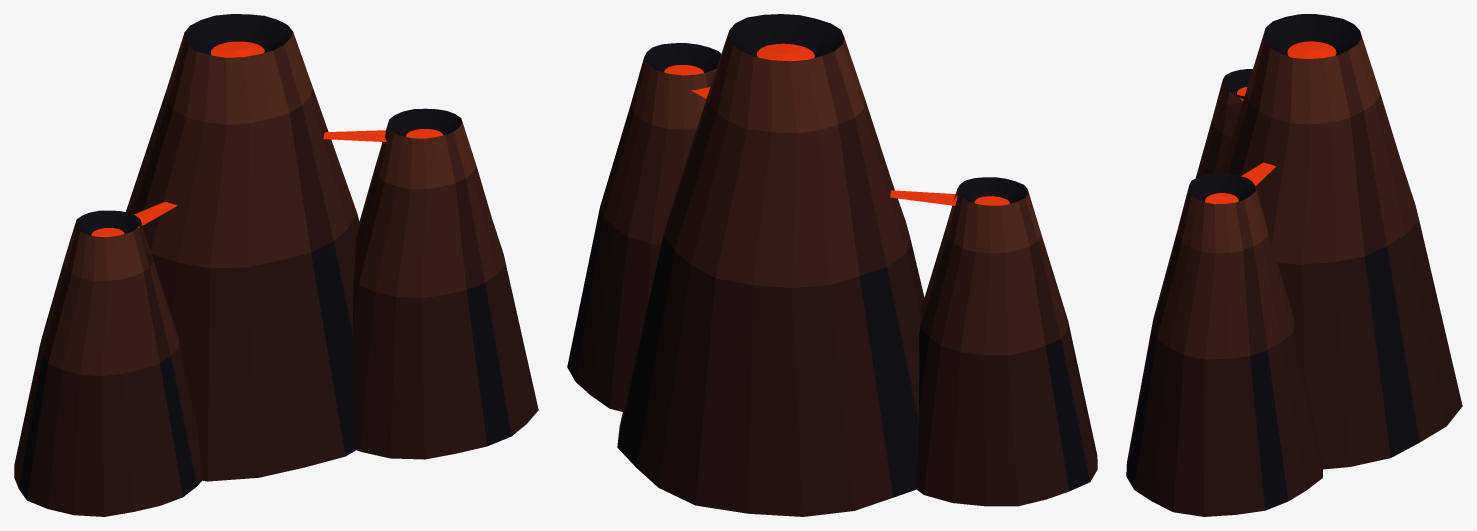
The model's file is magma_horizon_spire.obj.
3 renders of one model, left to right at view 1: azimuth 30°, elevation 25°; view 2: azimuth 150°, elevation 25°; view 3: azimuth 270°, elevation 25°, orthographic. The views are drawn at different scales.
Visible parts, largest first — view 1: magma_horizon_spire; view 2: magma_horizon_spire; view 3: magma_horizon_spire.
Part boxes in pixels (x1=…): magma_horizon_spire: x1=14, y1=14, x2=538, y2=516; magma_horizon_spire: x1=567, y1=14, x2=1097, y2=516; magma_horizon_spire: x1=1126, y1=14, x2=1462, y2=516.
Size of the model in its own units: 36.29 by 27.8 by 22.41.
